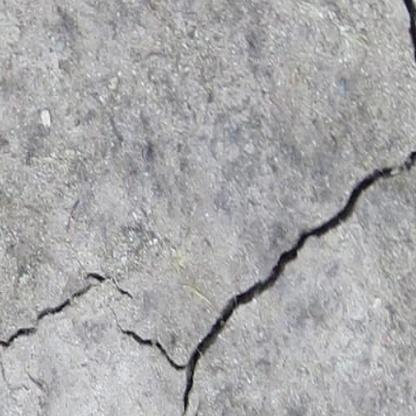Cracks: (118, 162, 400, 416), (0, 270, 111, 353), (397, 0, 416, 135), (114, 284, 139, 304), (406, 140, 416, 170)
